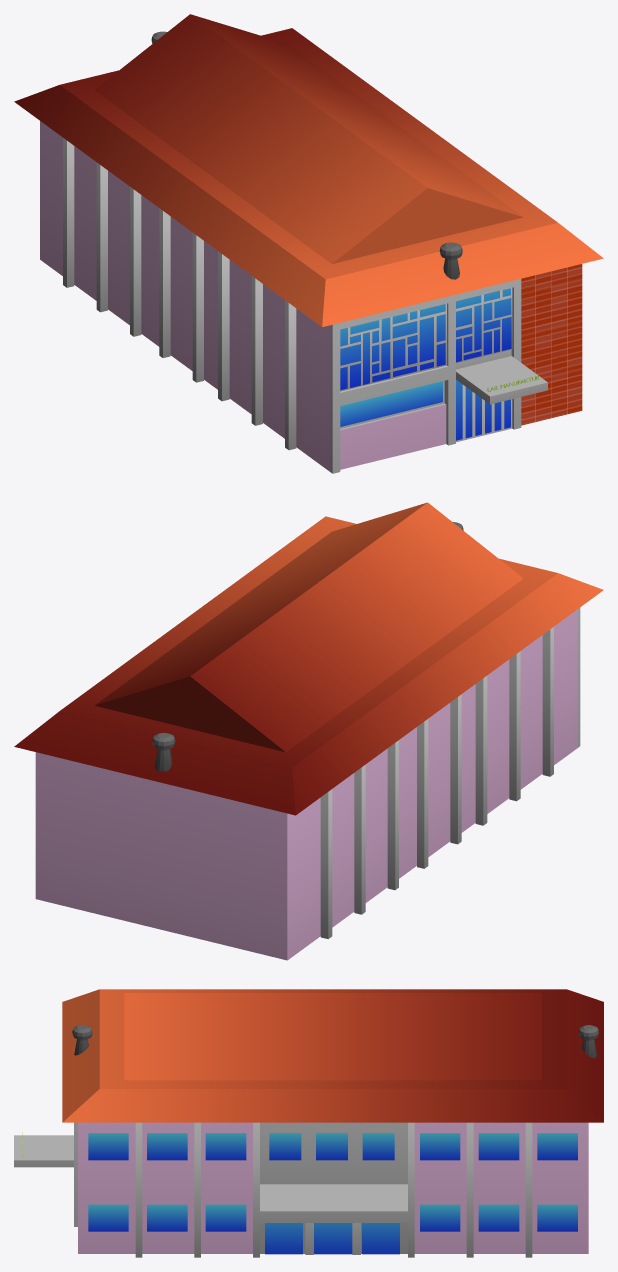
The model's file is Gedung Manufaktur.fbx.
3 views of the same model, one above another, from view 1: azimuth 30°, elevation 25°; view 2: azimuth 150°, elevation 25°; view 3: azimuth 270°, elevation 25° (orthographic). The views are drawn at different scales.
Parts seen in each view (by area): view 1: Manufaktur; view 2: Manufaktur; view 3: Manufaktur.
Part boxes in pixels (left/top/right/bottom): Manufaktur: left=14, top=14, right=603, bottom=473; Manufaktur: left=14, top=502, right=603, bottom=960; Manufaktur: left=14, top=989, right=603, bottom=1257.
Size of the model in its own units: 1318 by 891 by 2310.
Materials: 2 (2 with a texture image).
